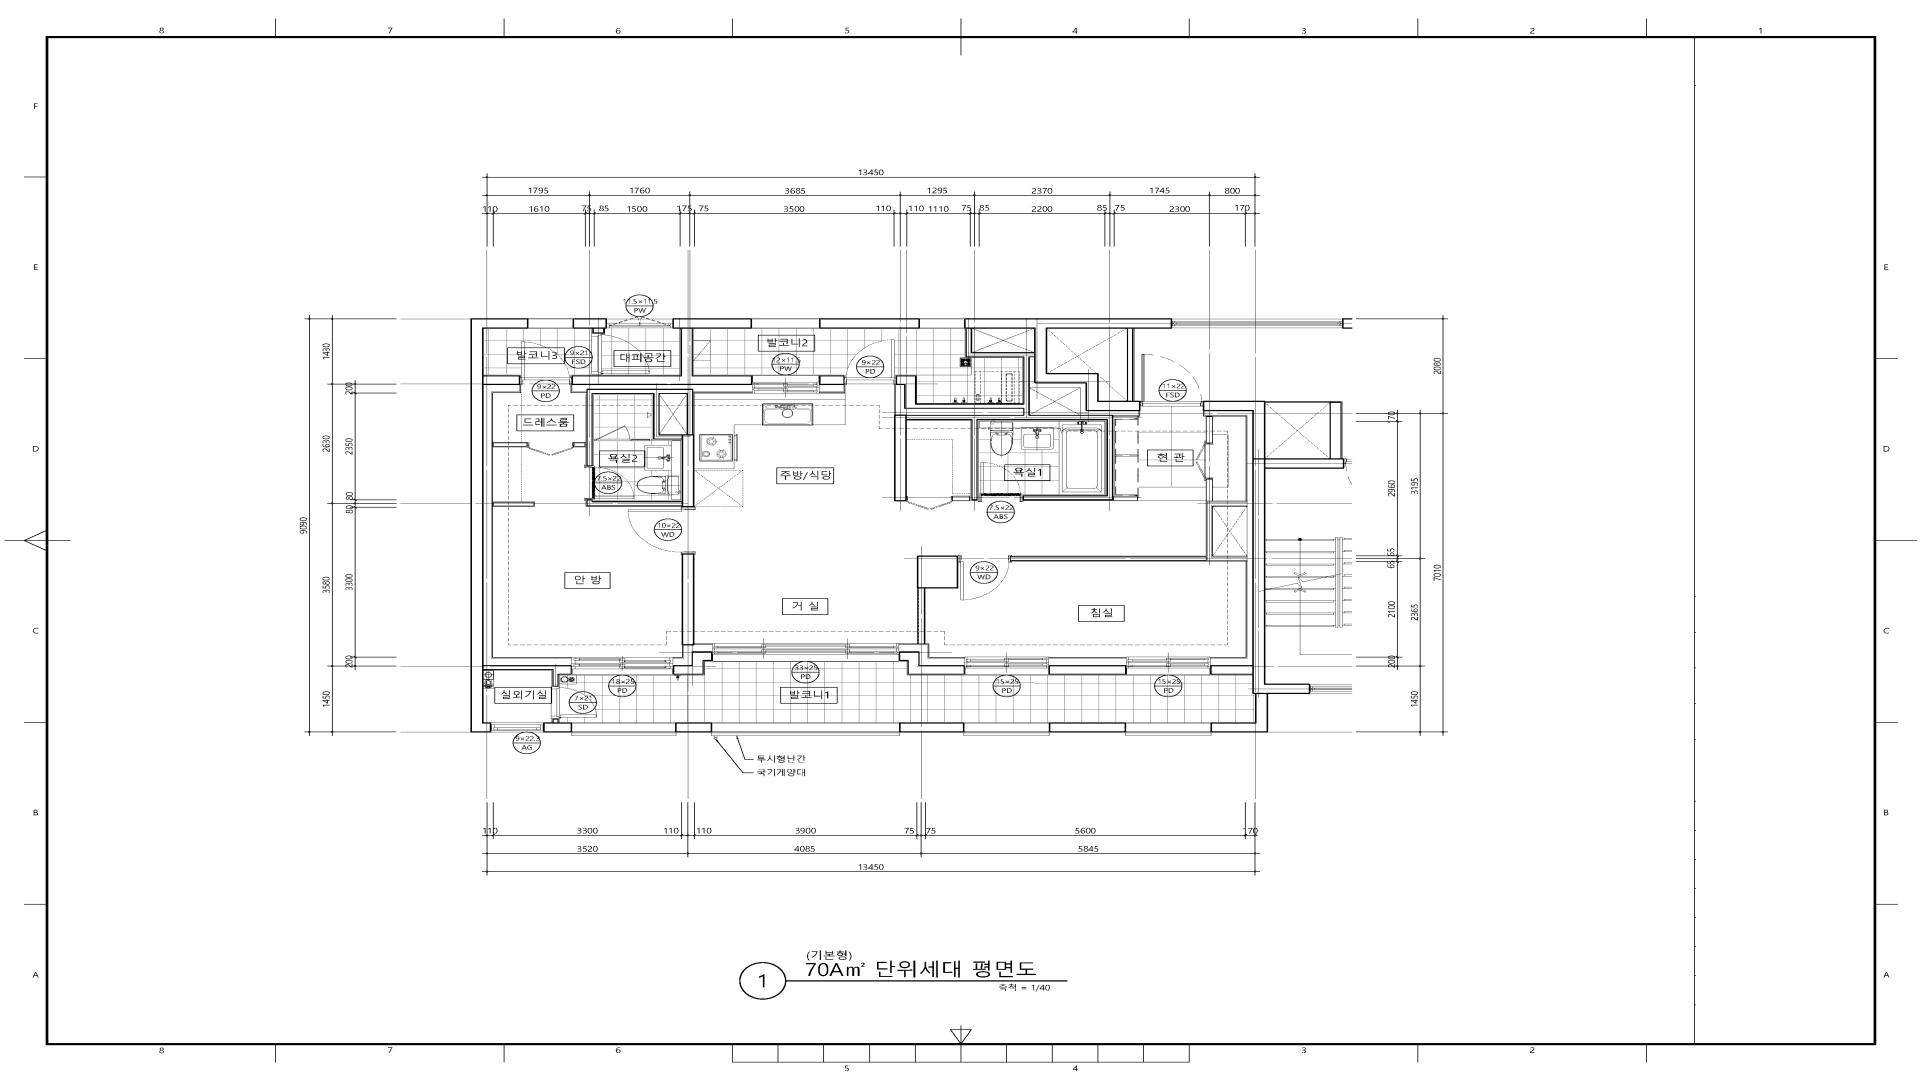door: (1139, 353, 1203, 406), (628, 506, 695, 554), (592, 334, 650, 375), (844, 339, 897, 384), (959, 555, 1010, 600), (520, 342, 571, 384), (978, 462, 1023, 501), (587, 465, 634, 500), (551, 687, 597, 719), (1196, 440, 1213, 481), (527, 442, 574, 456), (907, 496, 952, 509), (595, 426, 630, 442)
wall: (1203, 401, 1344, 732), (471, 318, 572, 732), (894, 328, 1113, 501), (484, 385, 571, 666), (1010, 479, 1246, 562), (964, 318, 1172, 411), (1203, 411, 1253, 666), (571, 318, 753, 385), (587, 389, 694, 467), (1030, 357, 1141, 415), (899, 651, 965, 675), (571, 385, 753, 393), (916, 555, 959, 588), (899, 644, 965, 665), (682, 554, 695, 646), (819, 318, 920, 328), (682, 434, 695, 508), (673, 651, 712, 675), (673, 644, 712, 665), (1048, 665, 1126, 675), (1050, 723, 1126, 732), (587, 500, 682, 506), (1048, 657, 1126, 665), (899, 723, 964, 732), (572, 318, 607, 334), (1127, 328, 1134, 401), (918, 588, 926, 644), (819, 376, 844, 393), (543, 719, 571, 732), (676, 723, 711, 733), (1205, 417, 1213, 443), (493, 442, 527, 447), (493, 502, 534, 506), (1113, 496, 1138, 501), (952, 496, 972, 501), (1266, 401, 1331, 402), (574, 442, 587, 447), (630, 439, 651, 442)
window: (712, 644, 899, 662), (711, 723, 899, 736), (571, 657, 673, 675), (1126, 657, 1209, 675), (965, 657, 1048, 675), (571, 723, 676, 736), (964, 723, 1050, 736), (1125, 723, 1211, 736), (753, 376, 819, 393), (607, 316, 673, 328), (752, 318, 819, 328), (492, 723, 543, 732), (919, 318, 964, 328), (529, 318, 572, 328)
